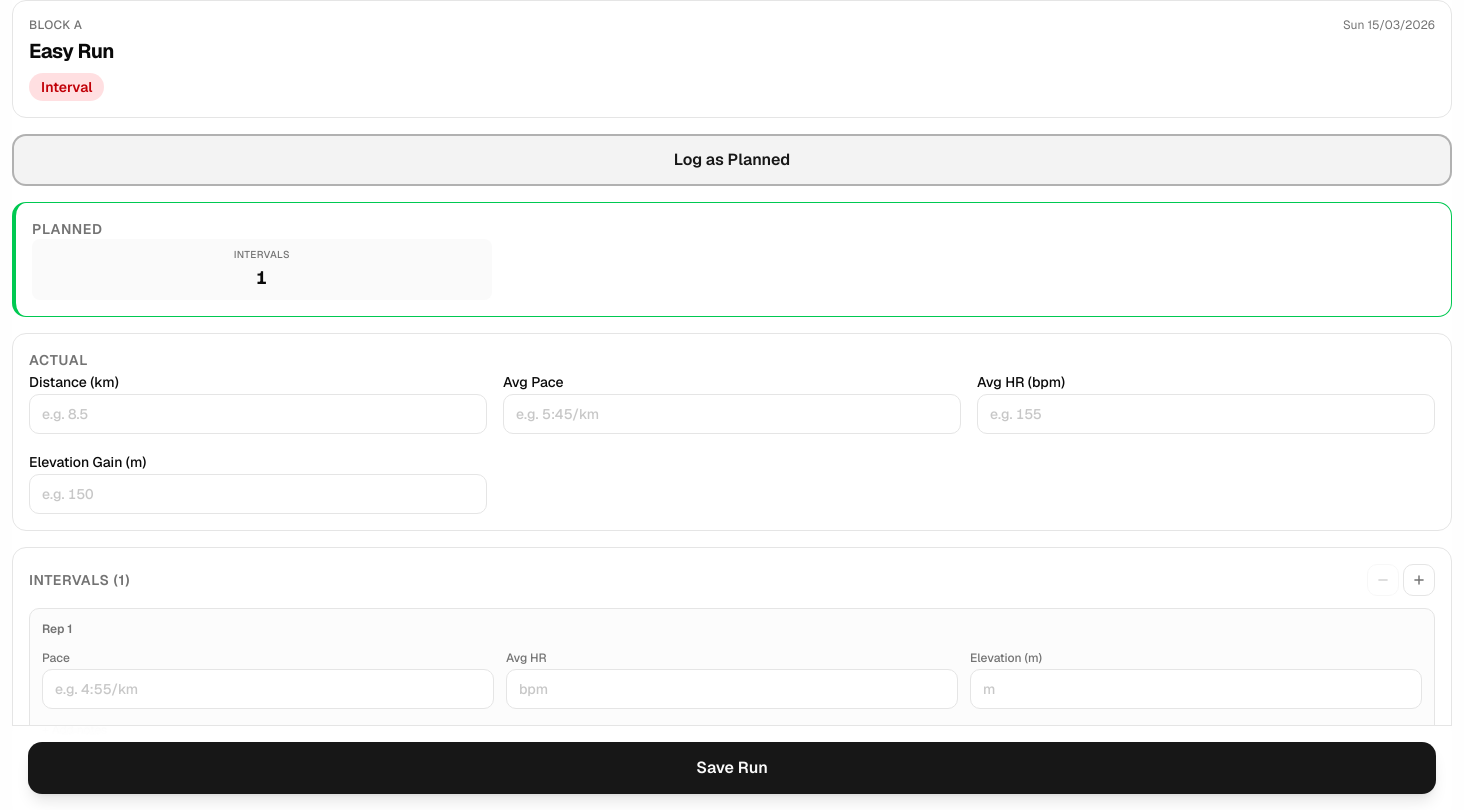
it: RunningLoggingForm — T180 characterization (elevation gain) › adding an interval rep creates entry with empty pace/hr/notes/elevation
Note: Add one more rep
Step 1. Click the button named "Add interval" → (1419, 580), box [1403, 564, 1435, 596]
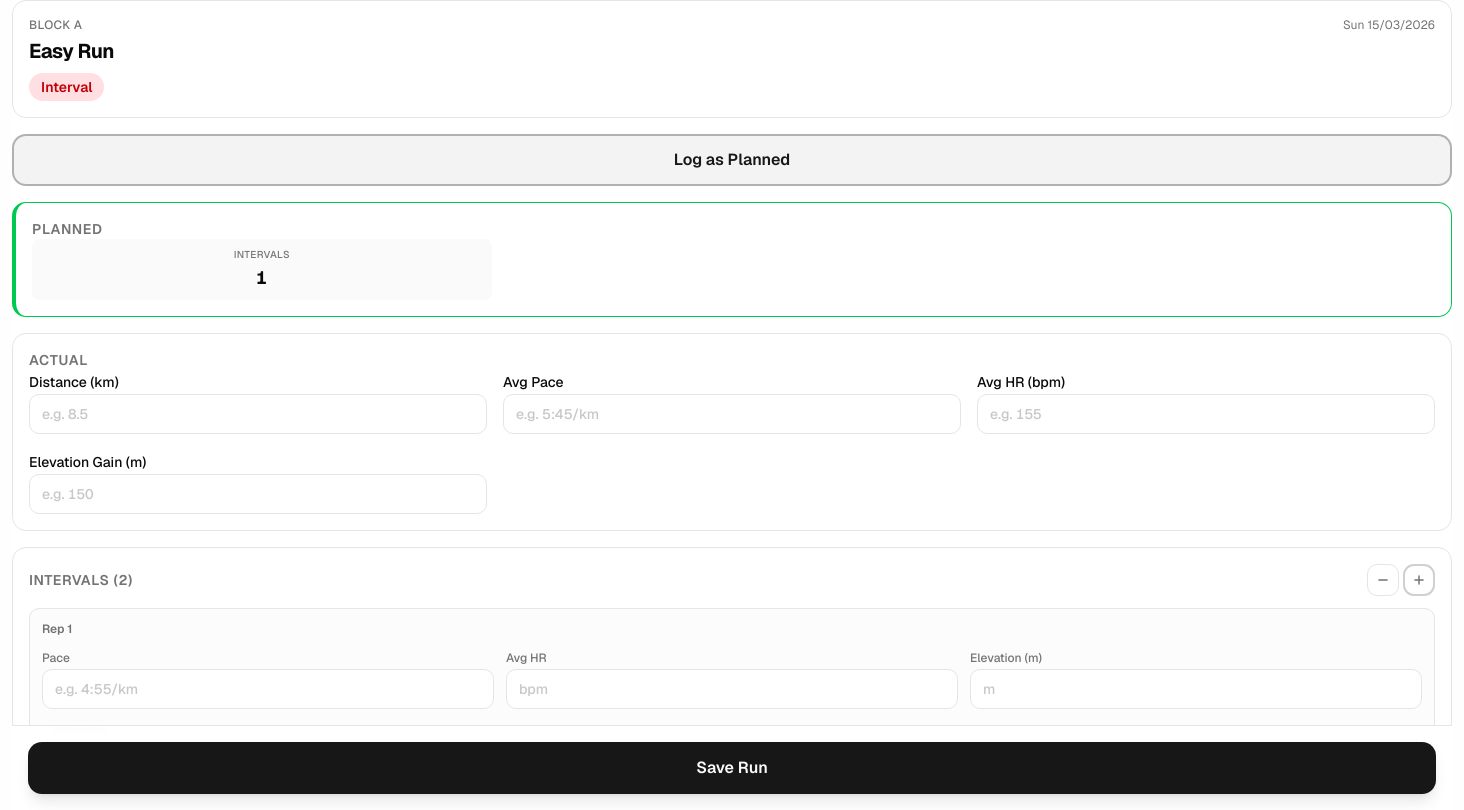
Now the heading "Intervals (2)" is shown, box [29, 570, 133, 590]
Note: Save and check the new rep's shape
Step 2. Click the button with test id "save-running-btn" → (732, 768), box [28, 742, 1436, 794]
(page scrolled)
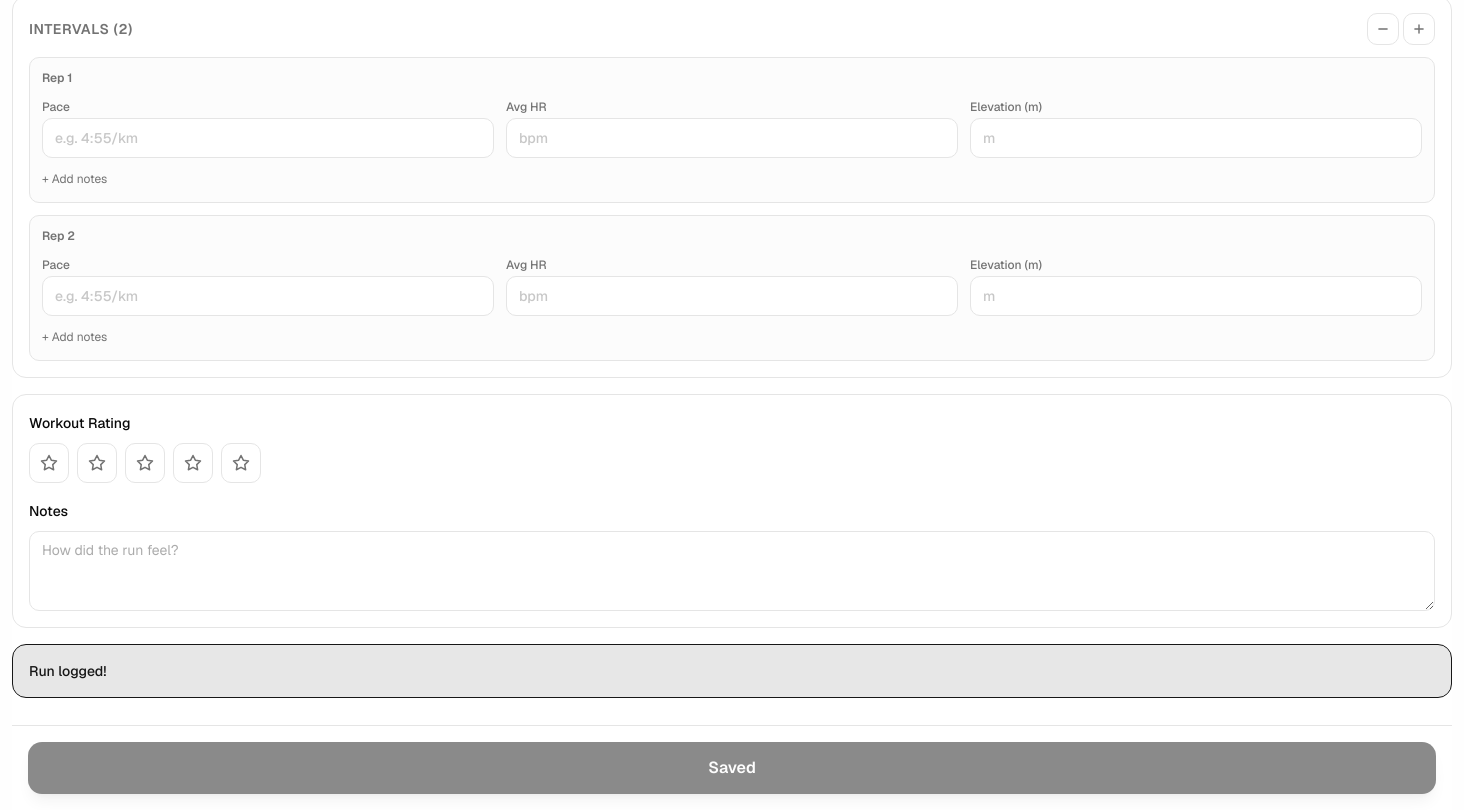
Now the element with test id "save-success" is shown, box [12, 644, 1452, 698]
